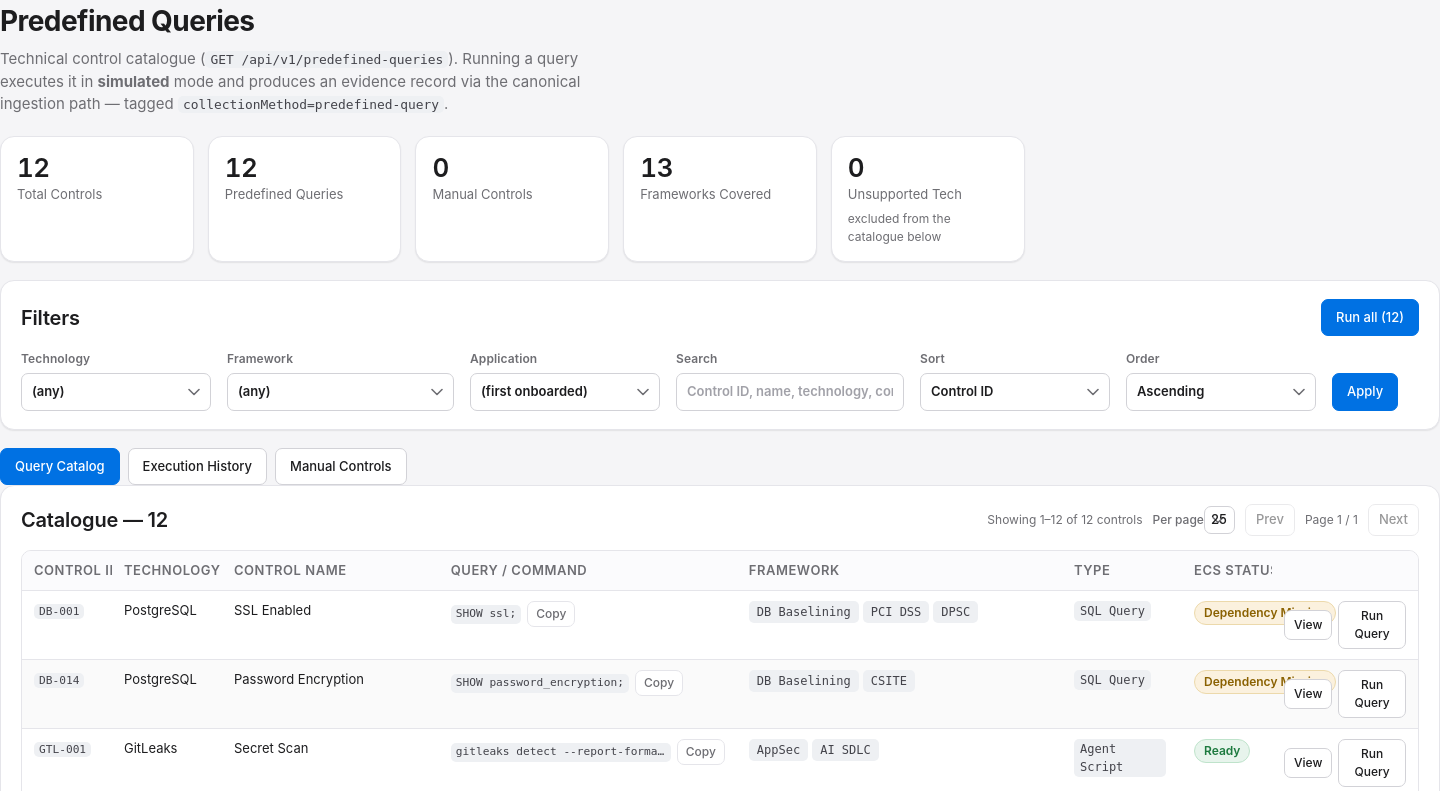
Test case: PredefinedQueries › lists the catalogue, filters by technology, and runs one query (mock)
Expected: the heading "Catalogue — 12" is shown, [21, 505, 168, 535]
Expected: the text "DB-001" is shown, [34, 604, 84, 619]
Note: Selecting a technology alone doesn't refilter — it only takes effect on Apply.
Select "Linux" in the dropdown labelled "Technology" at x=116, y=392, box [21, 373, 211, 411]
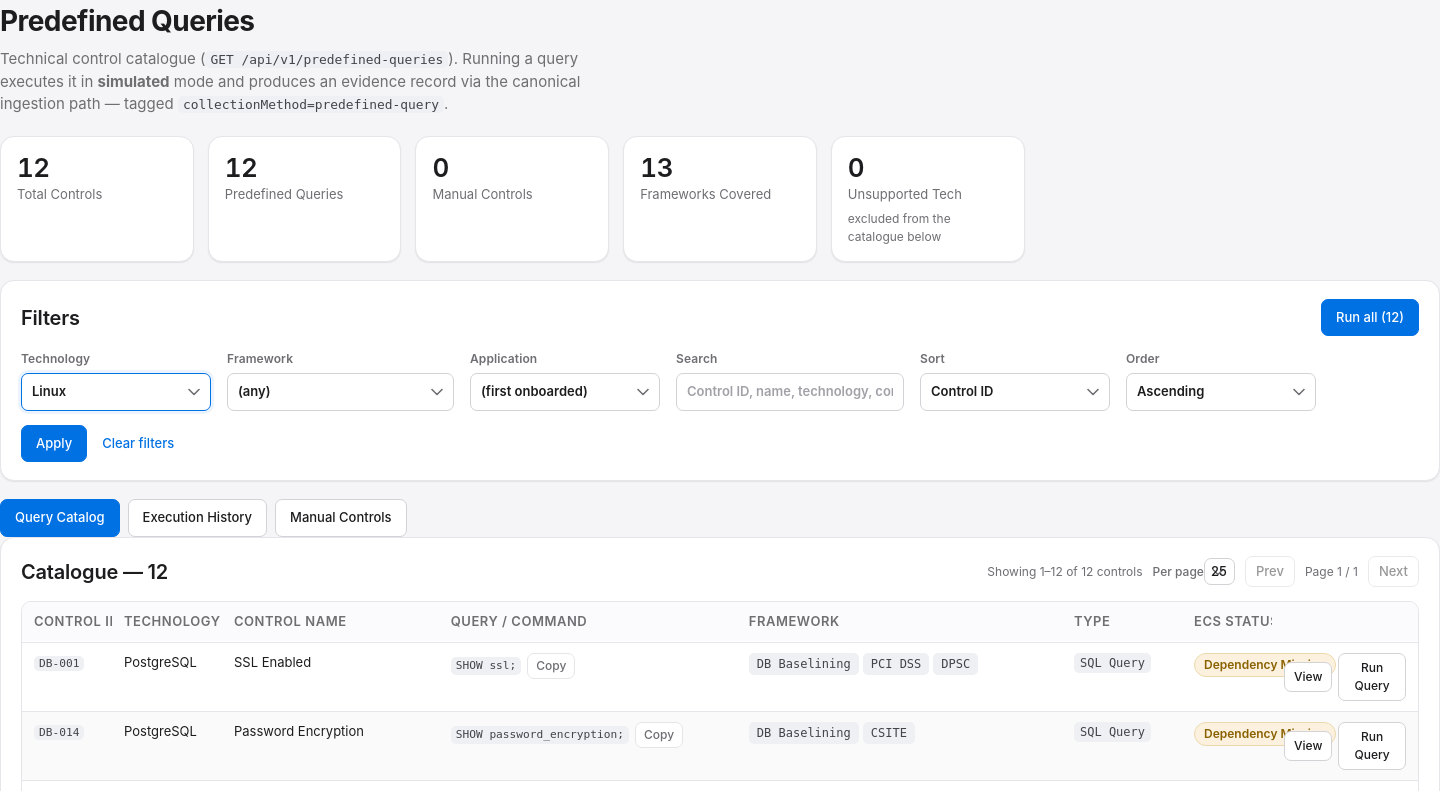
Expected: the text "DB-001" is shown, [34, 656, 84, 671]
Click the button "Apply" at x=54, y=444, box [21, 425, 87, 462]
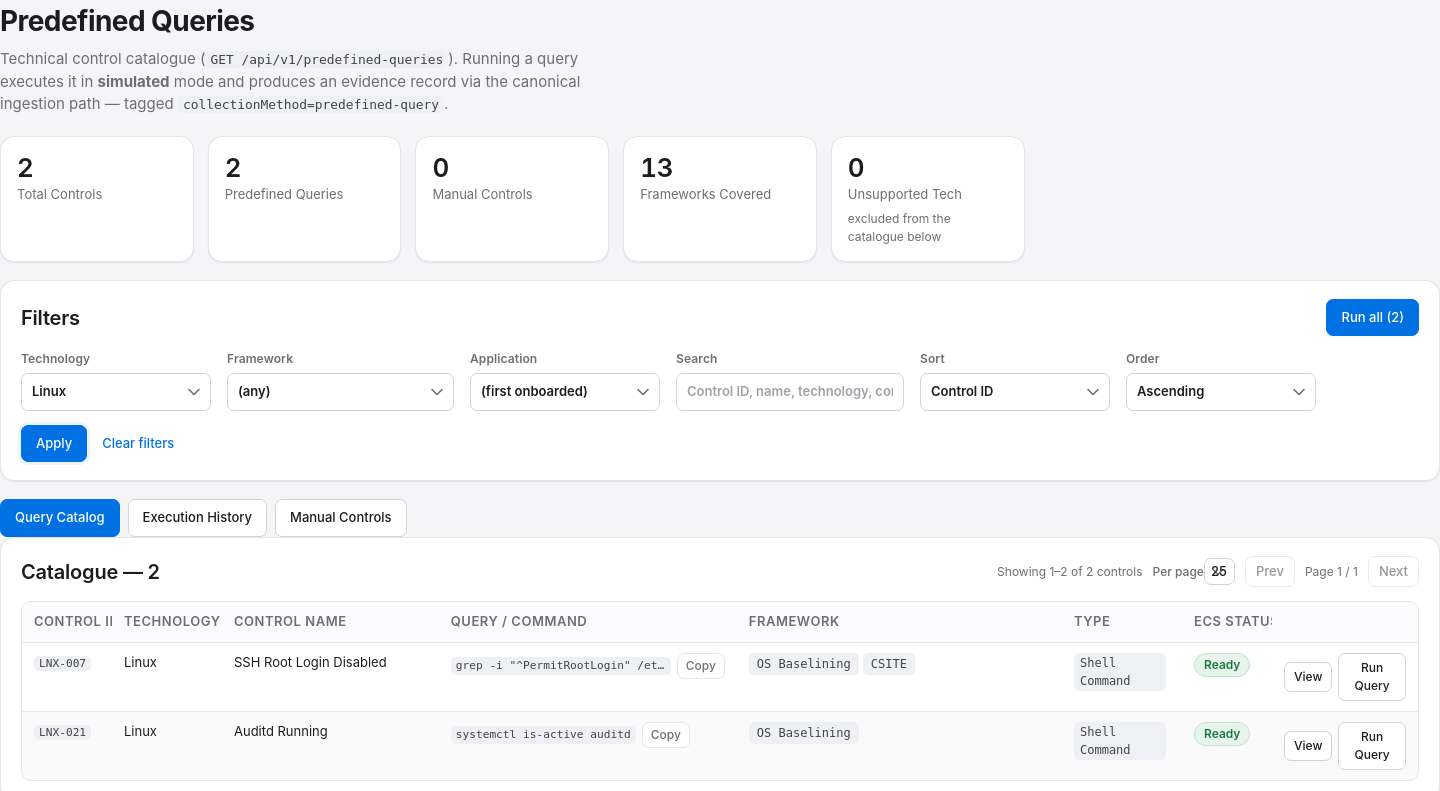
Expected: the text "LNX-007" is shown, [34, 656, 91, 671]
Expected: the text "DB-001" is gone
Click the button "Run Query" in the row of "LNX-007" at x=1372, y=677, box [1338, 653, 1406, 701]
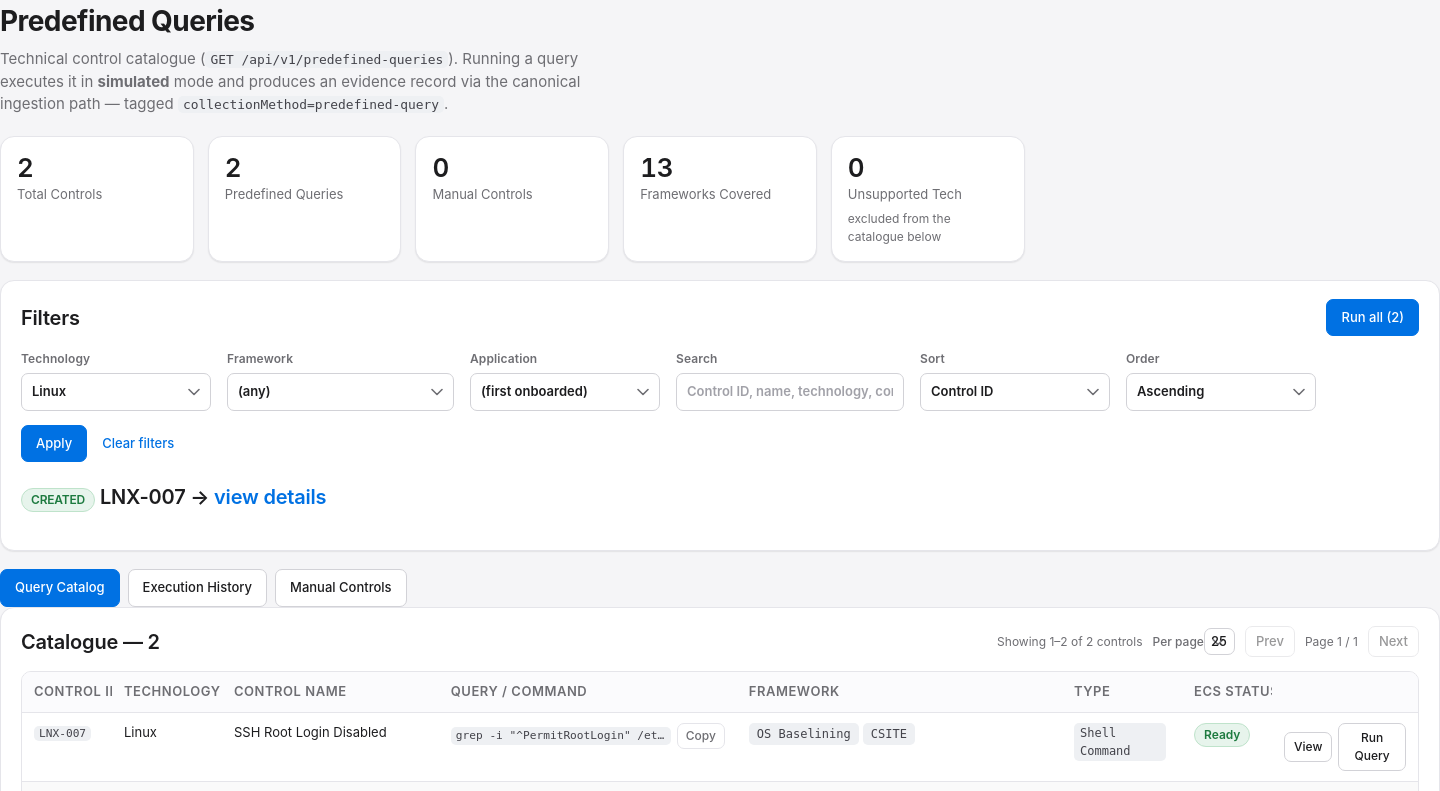
Expected: the link "view details" is shown, [214, 485, 326, 509]
